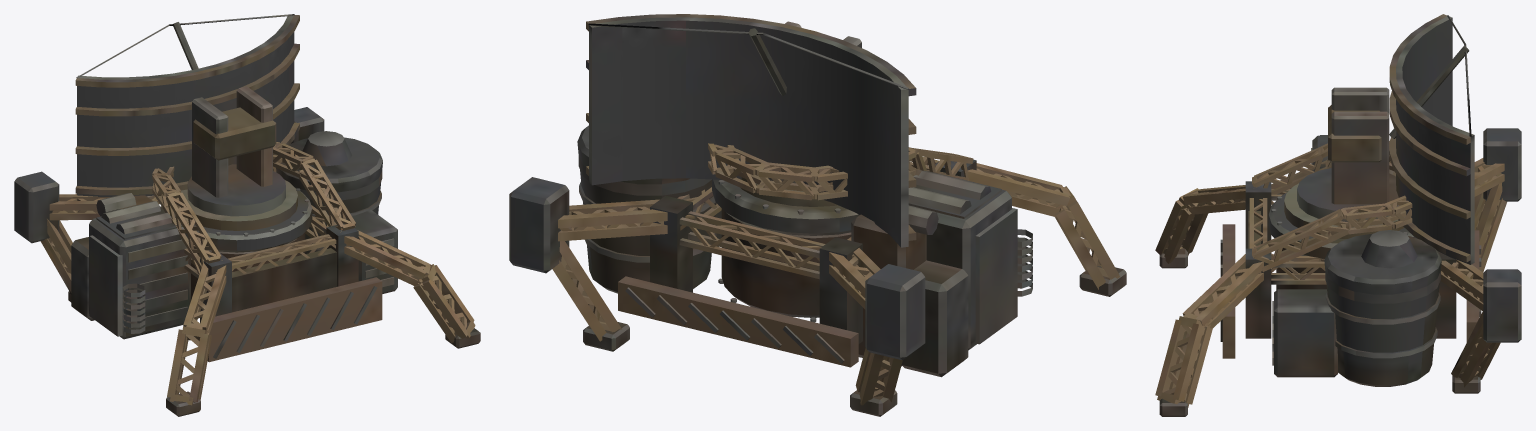
File: radar.glb
The picture shows the model from 3 angles, left to right: view 1: azimuth 30°, elevation 25°; view 2: azimuth 150°, elevation 25°; view 3: azimuth 270°, elevation 25°; orthographic projection. The views are drawn at different scales.
Visible parts, largest first — view 1: body, anim_spin_radar; view 2: body, anim_spin_radar; view 3: body, anim_spin_radar.
Boxes of the visible parts, x1,y1,x2,y2 form: body: [14, 107, 480, 416]; anim_spin_radar: [75, 14, 299, 216]; body: [509, 125, 1126, 416]; anim_spin_radar: [586, 14, 916, 247]; body: [1155, 128, 1521, 416]; anim_spin_radar: [1297, 14, 1474, 264].
Size of the model in its own units: 3.02 by 2.44 by 2.85.
1 material, 1 textured.
